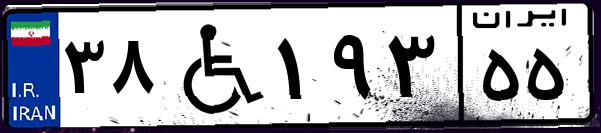1: (270, 28, 330, 110)
3: (385, 28, 445, 110), (57, 26, 110, 100)
5: (475, 38, 525, 113), (525, 38, 570, 115)
8: (110, 28, 158, 98)
9: (330, 28, 385, 110)
ژ (معلولین و جانبازان): (158, 12, 270, 120)
